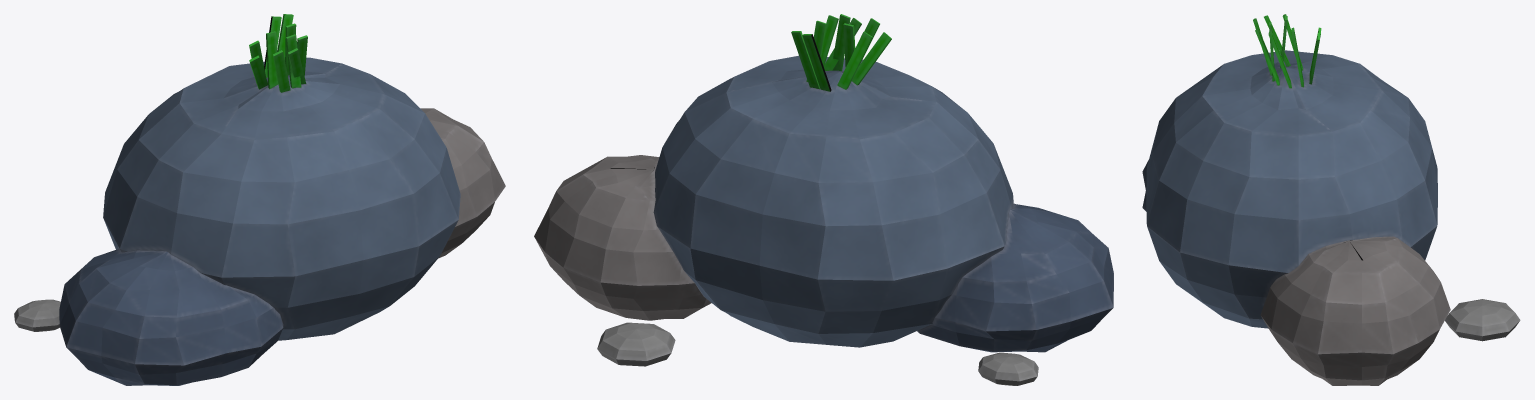
Rendered from RockCluster.fbx.
The picture shows the model from 3 angles, left to right: view 1: azimuth 30°, elevation 25°; view 2: azimuth 150°, elevation 25°; view 3: azimuth 270°, elevation 25°; orthographic projection. The views are drawn at different scales.
Visible parts, largest first — view 1: RockCluster; view 2: RockCluster; view 3: RockCluster.
Boxes of the visible parts, x1,y1,x2,y2 form: RockCluster: (14, 14, 505, 385); RockCluster: (534, 14, 1113, 385); RockCluster: (1142, 14, 1520, 385).
Size of the model in its own units: 4.23 by 2.5 by 2.98.
